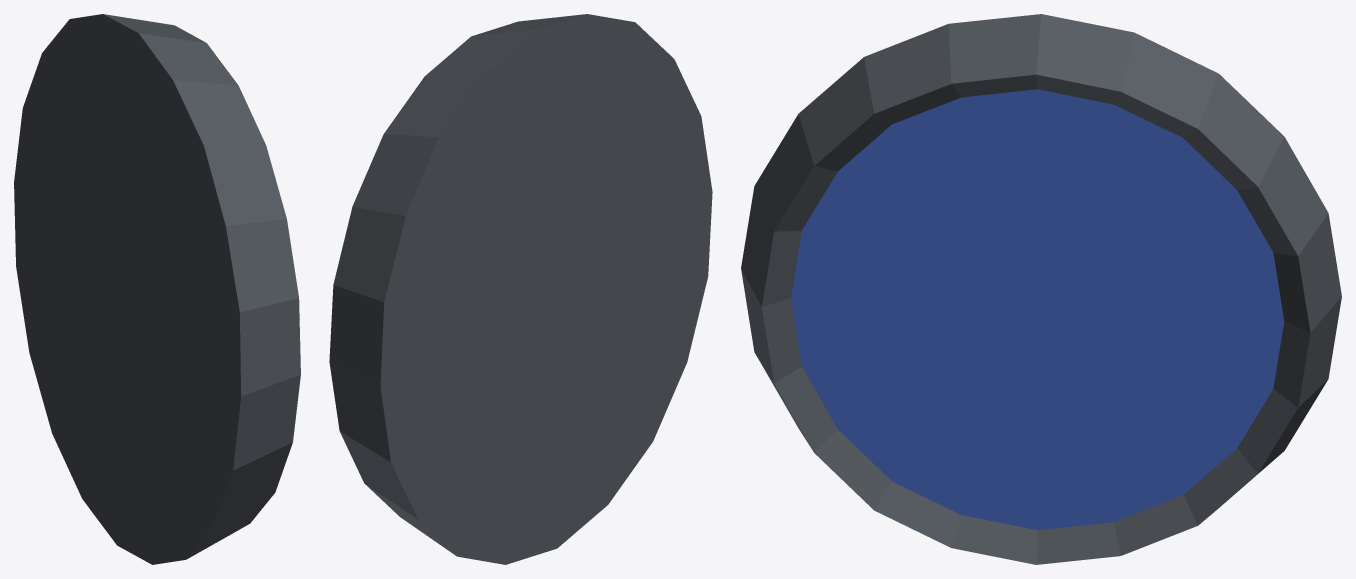
The model's file is Dropship_04_Artillery_Mount_Blue.fbx.
The picture shows the model from 3 angles, left to right: view 1: azimuth 30°, elevation 25°; view 2: azimuth 150°, elevation 25°; view 3: azimuth 270°, elevation 25°; orthographic projection. The views are drawn at different scales.
Visible parts, largest first — view 1: Dropship_04_Artillery_Mount_Blue; view 2: Dropship_04_Artillery_Mount_Blue; view 3: Dropship_04_Artillery_Mount_Blue.
Boxes of the visible parts, box(x1,y1,x2,y2) form: Dropship_04_Artillery_Mount_Blue: box(14, 14, 300, 564); Dropship_04_Artillery_Mount_Blue: box(329, 14, 712, 564); Dropship_04_Artillery_Mount_Blue: box(741, 14, 1341, 564).
Size of the model in its own units: 50.68 by 206 by 205.
1 material, 1 textured.
